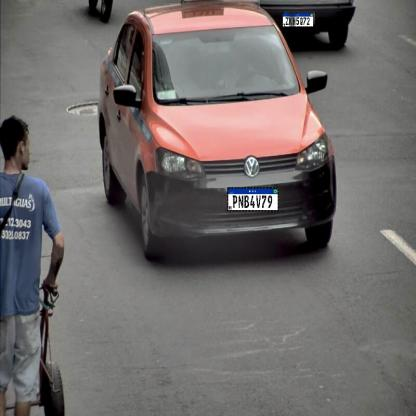PlacaM: (227, 187, 279, 212), (282, 13, 314, 27)
